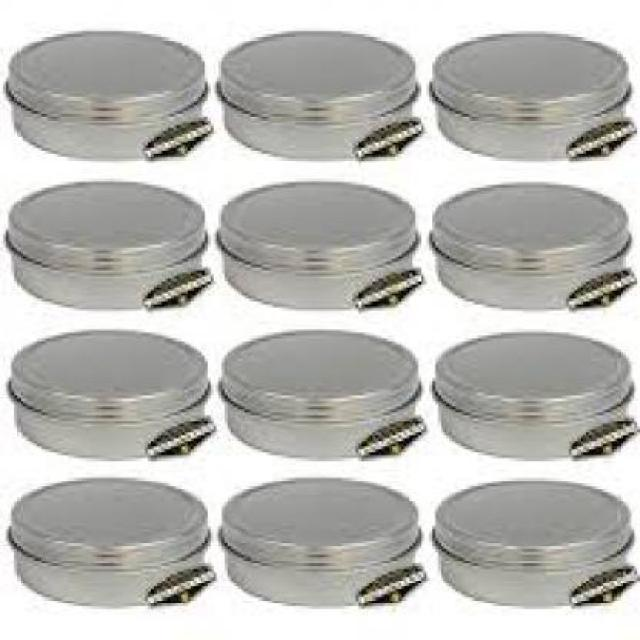METAL: (3, 176, 208, 310), (3, 327, 208, 461), (430, 327, 632, 461), (8, 472, 210, 606), (0, 26, 208, 156), (211, 29, 418, 156), (213, 179, 418, 307), (213, 327, 416, 455), (430, 475, 632, 603), (430, 32, 632, 159), (213, 479, 418, 603), (430, 185, 632, 304)
